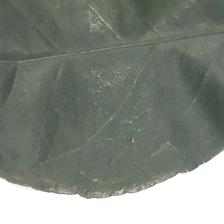healthy: (0, 0, 180, 187)
